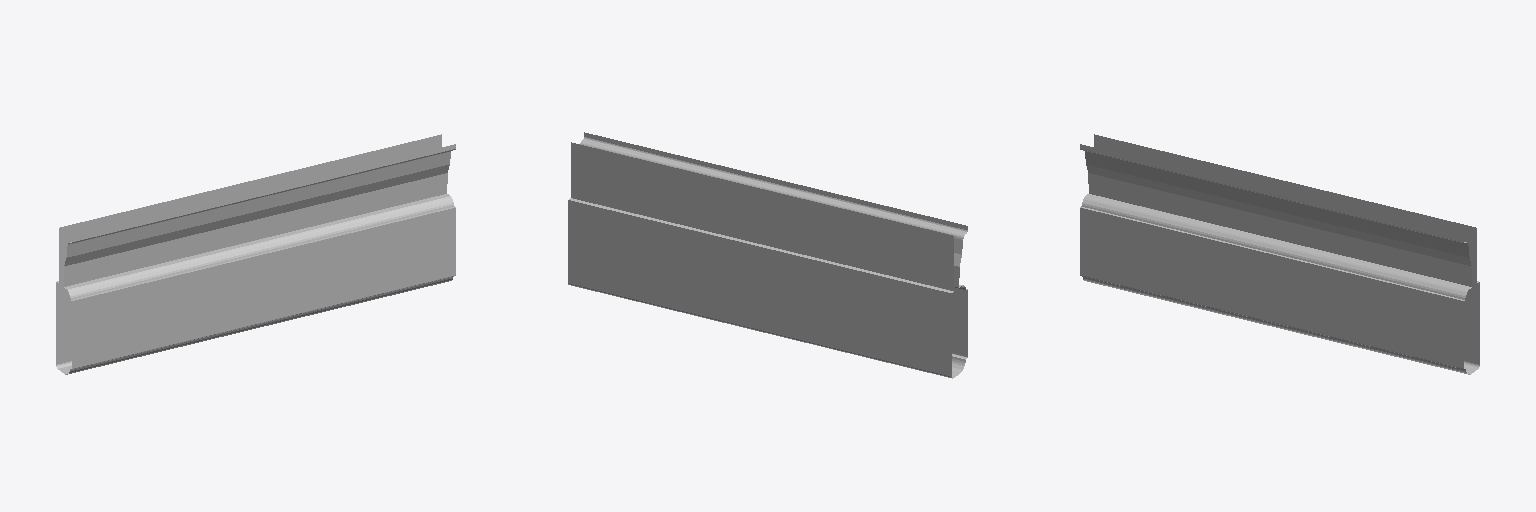
The model's file is original-112.obj.
3 renders of one model, left to right at view 1: azimuth 30°, elevation 25°; view 2: azimuth 150°, elevation 25°; view 3: azimuth 330°, elevation 25°, orthographic.
Parts seen in each view (by area): view 1: RT_11_BC1/RT_11_BC/mesh54/mesh54-geometry#mesh54-geometry; view 2: RT_11_BC1/RT_11_BC/mesh54/mesh54-geometry#mesh54-geometry; view 3: RT_11_BC1/RT_11_BC/mesh54/mesh54-geometry#mesh54-geometry.
Part boxes in pixels (x1,y1,x2,y2): RT_11_BC1/RT_11_BC/mesh54/mesh54-geometry#mesh54-geometry: (56, 134, 455, 374); RT_11_BC1/RT_11_BC/mesh54/mesh54-geometry#mesh54-geometry: (568, 132, 967, 378); RT_11_BC1/RT_11_BC/mesh54/mesh54-geometry#mesh54-geometry: (1080, 134, 1479, 374).
Size of the model in its own units: 0.3685 by 0.1303 by 0.027.